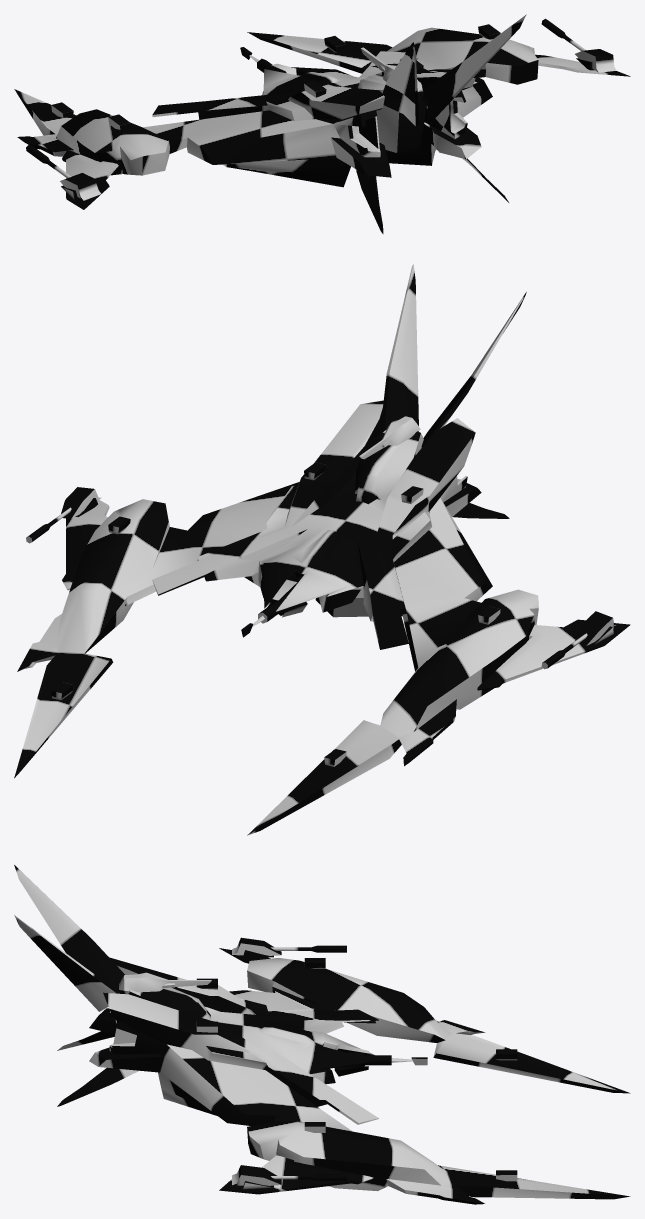
Rendered from goliath_sentinel.obj.
3 views of the same model, one above another, from view 1: azimuth 30°, elevation 25°; view 2: azimuth 150°, elevation 25°; view 3: azimuth 270°, elevation 25° (orthographic). The views are drawn at different scales.
Parts seen in each view (by area): view 1: main; view 2: main; view 3: main.
Boxes of the visible parts, x1,y1,x2,y2 form: main: (14, 14, 630, 234); main: (14, 264, 630, 835); main: (14, 865, 630, 1204).
Size of the model in its own units: 172 by 84.89 by 185.
1 material, 1 textured.
